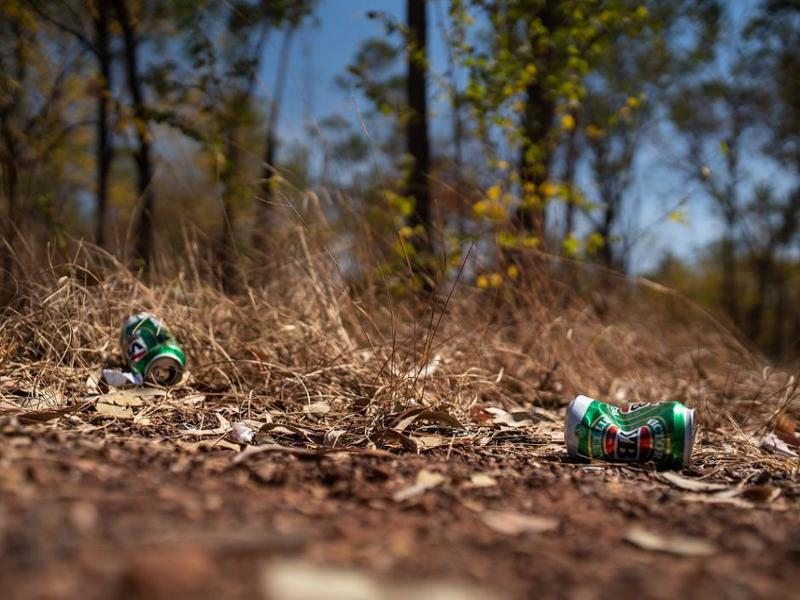can: (557, 388, 704, 476), (109, 308, 198, 389)
